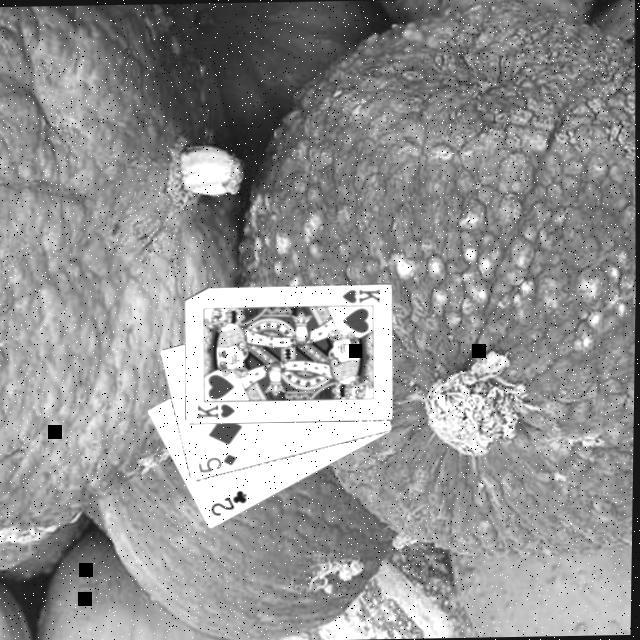2C: (208, 487, 252, 520)
5D: (197, 451, 241, 477)
KH: (340, 286, 384, 307), (196, 401, 238, 422)
